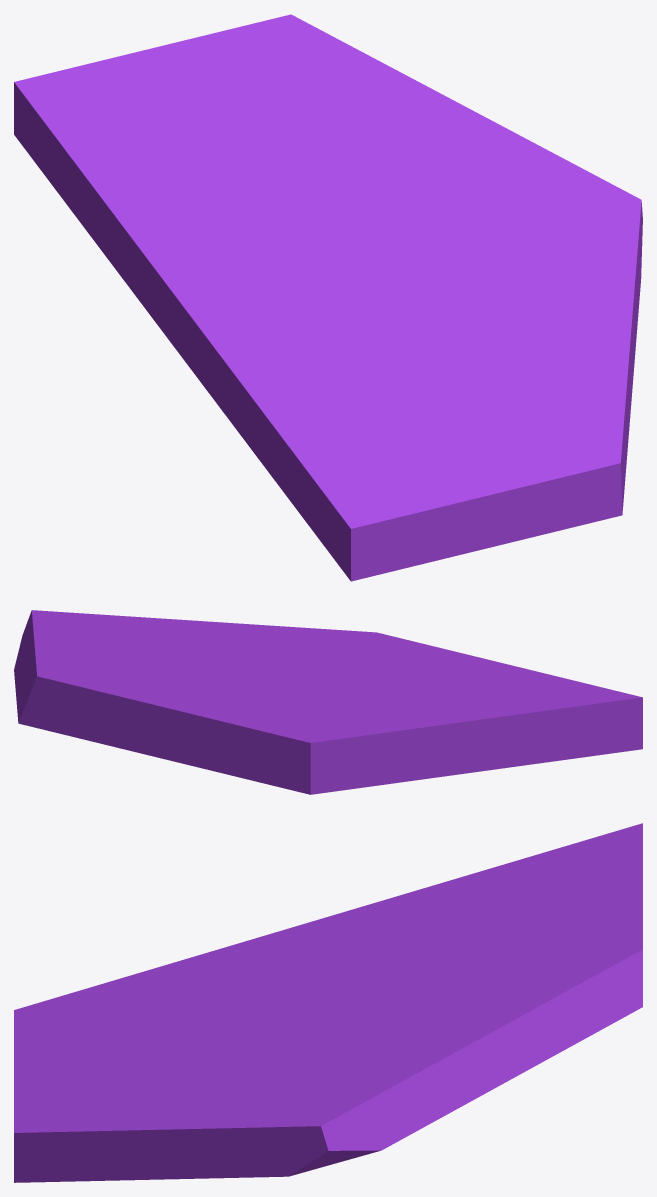
Rendered from Window_155_0_chunks.fbx.
The picture shows the model from 3 angles, top to bottom: view 1: azimuth 30°, elevation 25°; view 2: azimuth 150°, elevation 25°; view 3: azimuth 270°, elevation 25°; orthographic projection. The views are drawn at different scales.
Visible parts, largest first — view 1: Window_155_0_2, Window_155_0_8, Window_155_0_7, Window_155_0_9, Window_155_0_11, Window_155_0_16, Window_155_0_17, Window_155_0_6, Window_155_0_5, Window_155_0_3, Window_155_0_24, Window_155_0_0 (+9 smaller); view 2: Window_155_0_8, Window_155_0_24, Window_155_0_9, Window_155_0_2, Window_155_0_7, Window_155_0_11, Window_155_0_16, Window_155_0_17, Window_155_0_18, Window_155_0_21, Window_155_0_4, Window_155_0_6 (+11 smaller); view 3: Window_155_0_7, Window_155_0_2, Window_155_0_8, Window_155_0_4, Window_155_0_5, Window_155_0_6, Window_155_0_24, Window_155_0_9, Window_155_0_16, Window_155_0_11, Window_155_0_22, Window_155_0_3 (+8 smaller).
Part boxes in pixels (left/top/right/bottom): Window_155_0_2: left=415, top=333, right=625, bottom=548; Window_155_0_8: left=14, top=53, right=320, bottom=185; Window_155_0_7: left=301, top=75, right=495, bottom=248; Window_155_0_9: left=171, top=319, right=382, bottom=504; Window_155_0_11: left=309, top=419, right=485, bottom=581; Window_155_0_16: left=160, top=276, right=417, bottom=373; Window_155_0_17: left=107, top=202, right=309, bottom=298; Window_155_0_6: left=542, top=201, right=641, bottom=341; Window_155_0_5: left=501, top=280, right=638, bottom=464; Window_155_0_3: left=444, top=164, right=544, bottom=317; Window_155_0_24: left=159, top=14, right=378, bottom=86; Window_155_0_0: left=302, top=223, right=501, bottom=319; Window_155_0_8: left=165, top=677, right=367, bottom=794; Window_155_0_24: left=17, top=659, right=182, bottom=759; Window_155_0_9: left=434, top=683, right=607, bottom=773; Window_155_0_2: left=284, top=629, right=539, bottom=672; Window_155_0_7: left=15, top=637, right=294, bottom=700; Window_155_0_11: left=458, top=672, right=642, bottom=752; Window_155_0_16: left=345, top=672, right=486, bottom=770; Window_155_0_17: left=312, top=688, right=445, bottom=780; Window_155_0_18: left=322, top=726, right=415, bottom=793; Window_155_0_21: left=167, top=740, right=312, bottom=794; Window_155_0_4: left=14, top=610, right=128, bottom=688; Window_155_0_6: left=35, top=610, right=217, bottom=637; Window_155_0_7: left=349, top=965, right=538, bottom=1097; Window_155_0_2: left=14, top=1030, right=200, bottom=1182; Window_155_0_8: left=437, top=823, right=642, bottom=970; Window_155_0_4: left=285, top=1045, right=476, bottom=1176; Window_155_0_5: left=58, top=1067, right=253, bottom=1181; Window_155_0_6: left=155, top=1082, right=319, bottom=1177; Window_155_0_24: left=562, top=889, right=642, bottom=1042; Window_155_0_9: left=80, top=922, right=308, bottom=1018; Window_155_0_16: left=180, top=905, right=368, bottom=1031; Window_155_0_11: left=14, top=990, right=134, bottom=1057; Window_155_0_22: left=494, top=931, right=576, bottom=1065; Window_155_0_3: left=222, top=1034, right=411, bottom=1084.
Bounding box in the file's own units: 919 × 482 × 1165.
